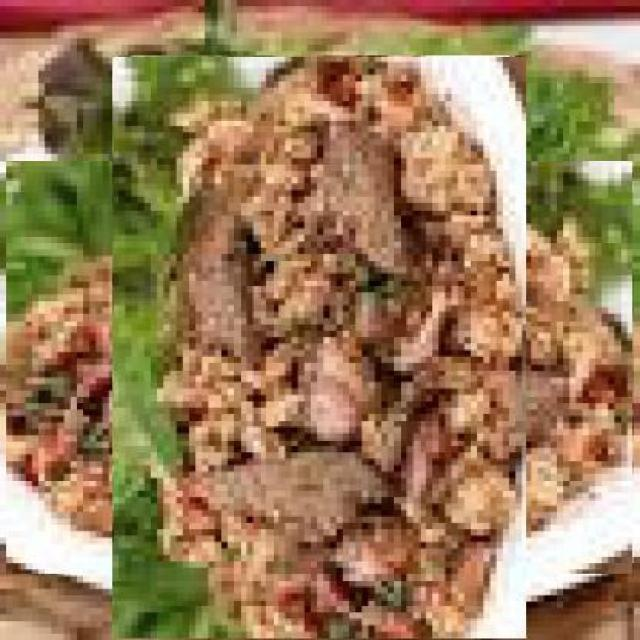Laab: (59, 106, 581, 628)
